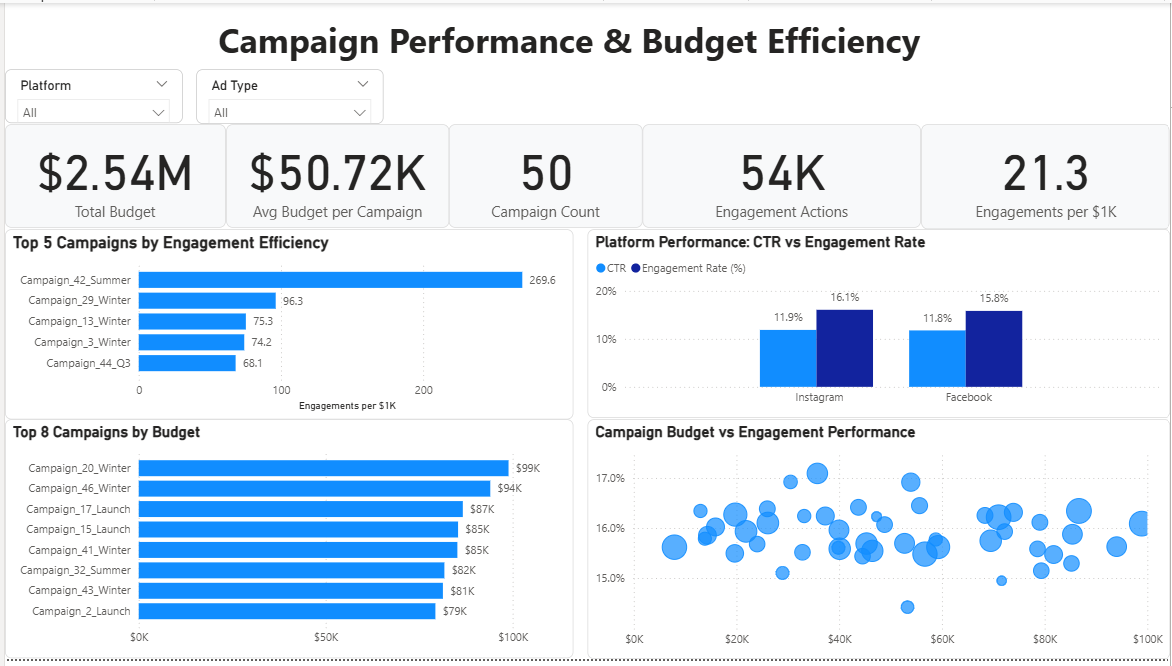

The dashboard page shown, as its layout file describes it:
{"tool":"powerbi","page":{"name":"Campaign Performance & Budget Efficiency (Campaign Performance)","canvas":[1280,720],"ordinal":0},"visuals":[{"type":"card","fields":{"Values":["campaigns.Total Budget"]},"box":[0,133.3,242.1,113.7],"z":0},{"type":"card","fields":{"Values":["campaigns.Campaign Count"]},"box":[487.3,133.3,212.8,113.7],"z":1000},{"type":"clusteredBarChart","title":"Top 5 Campaigns by Engagement Efficiency","fields":{"Category":["campaigns.name"],"Y":["Ads Selected Interest Flag.Engagements per $1K"]},"box":[0,248.2,639.5,209.1],"z":2000},{"type":"clusteredColumnChart","title":"Platform Performance: CTR vs Engagement Rate","fields":{"Category":["DimAds.ad_platform"],"Y":["FactAdEvents.CTR","FactAdEvents.Engagement Rate (%)"]},"box":[639.5,248.4,640.8,207.2],"z":3000},{"type":"card","fields":{"Values":["DimCampaigns.Avg Budget per Campaign"]},"box":[242.4,133.3,244.6,113.7],"z":4000},{"type":"scatterChart","title":"Campaign Budget vs Engagement Performance","fields":{"X":["DimCampaigns.Total Budget"],"Y":["FactAdEvents.Engagement Rate (%)"],"Size":["FactAdEvents.Engagement Actions"],"Category":["DimCampaigns.name"]},"box":[639.5,456.9,640.8,263.5],"z":5000},{"type":"clusteredBarChart","title":"Top 8 Campaigns by Budget","fields":{"Category":["DimCampaigns.name"],"Y":["DimCampaigns.Total Budget"]},"box":[0,457.3,639.5,261.7],"z":6000},{"type":"textbox","box":[228.5,8.9,876.9,62.5],"z":7000},{"type":"slicer","fields":{"Values":["DimAds.ad_platform"]},"box":[0,72.7,194.9,59],"z":8000},{"type":"slicer","fields":{"Values":["DimAds.ad_type"]},"box":[209.9,72.7,205.8,60.4],"z":9000},{"type":"card","fields":{"Values":["Ads Selected Interest Flag.Engagements per $1K"]},"box":[1006.1,133.3,273.9,114.9],"z":10000},{"type":"card","fields":{"Values":["FactAdEvents.Engagement Actions"]},"box":[700.4,133.3,305.7,113.7],"z":11000}]}

Visuals, with their boxes in screenshot pixels (x1, y1, x2, y2), scaled from the page's 1280x720 canvas onto the 1172x666 screenshot:
card - campaigns.Total Budget: [0, 123, 222, 228]
card - campaigns.Campaign Count: [446, 123, 641, 228]
"Top 5 Campaigns by Engagement Efficiency" clusteredBarChart: [0, 230, 586, 423]
"Platform Performance: CTR vs Engagement Rate" clusteredColumnChart: [586, 230, 1171, 421]
card - DimCampaigns.Avg Budget per Campaign: [222, 123, 446, 228]
"Campaign Budget vs Engagement Performance" scatterChart: [586, 423, 1171, 665]
"Top 8 Campaigns by Budget" clusteredBarChart: [0, 423, 586, 665]
textbox: [209, 8, 1012, 66]
slicer - DimAds.ad_platform: [0, 67, 178, 122]
slicer - DimAds.ad_type: [192, 67, 381, 123]
card - Ads Selected Interest Flag.Engagements per $1K: [921, 123, 1171, 230]
card - FactAdEvents.Engagement Actions: [641, 123, 921, 228]
